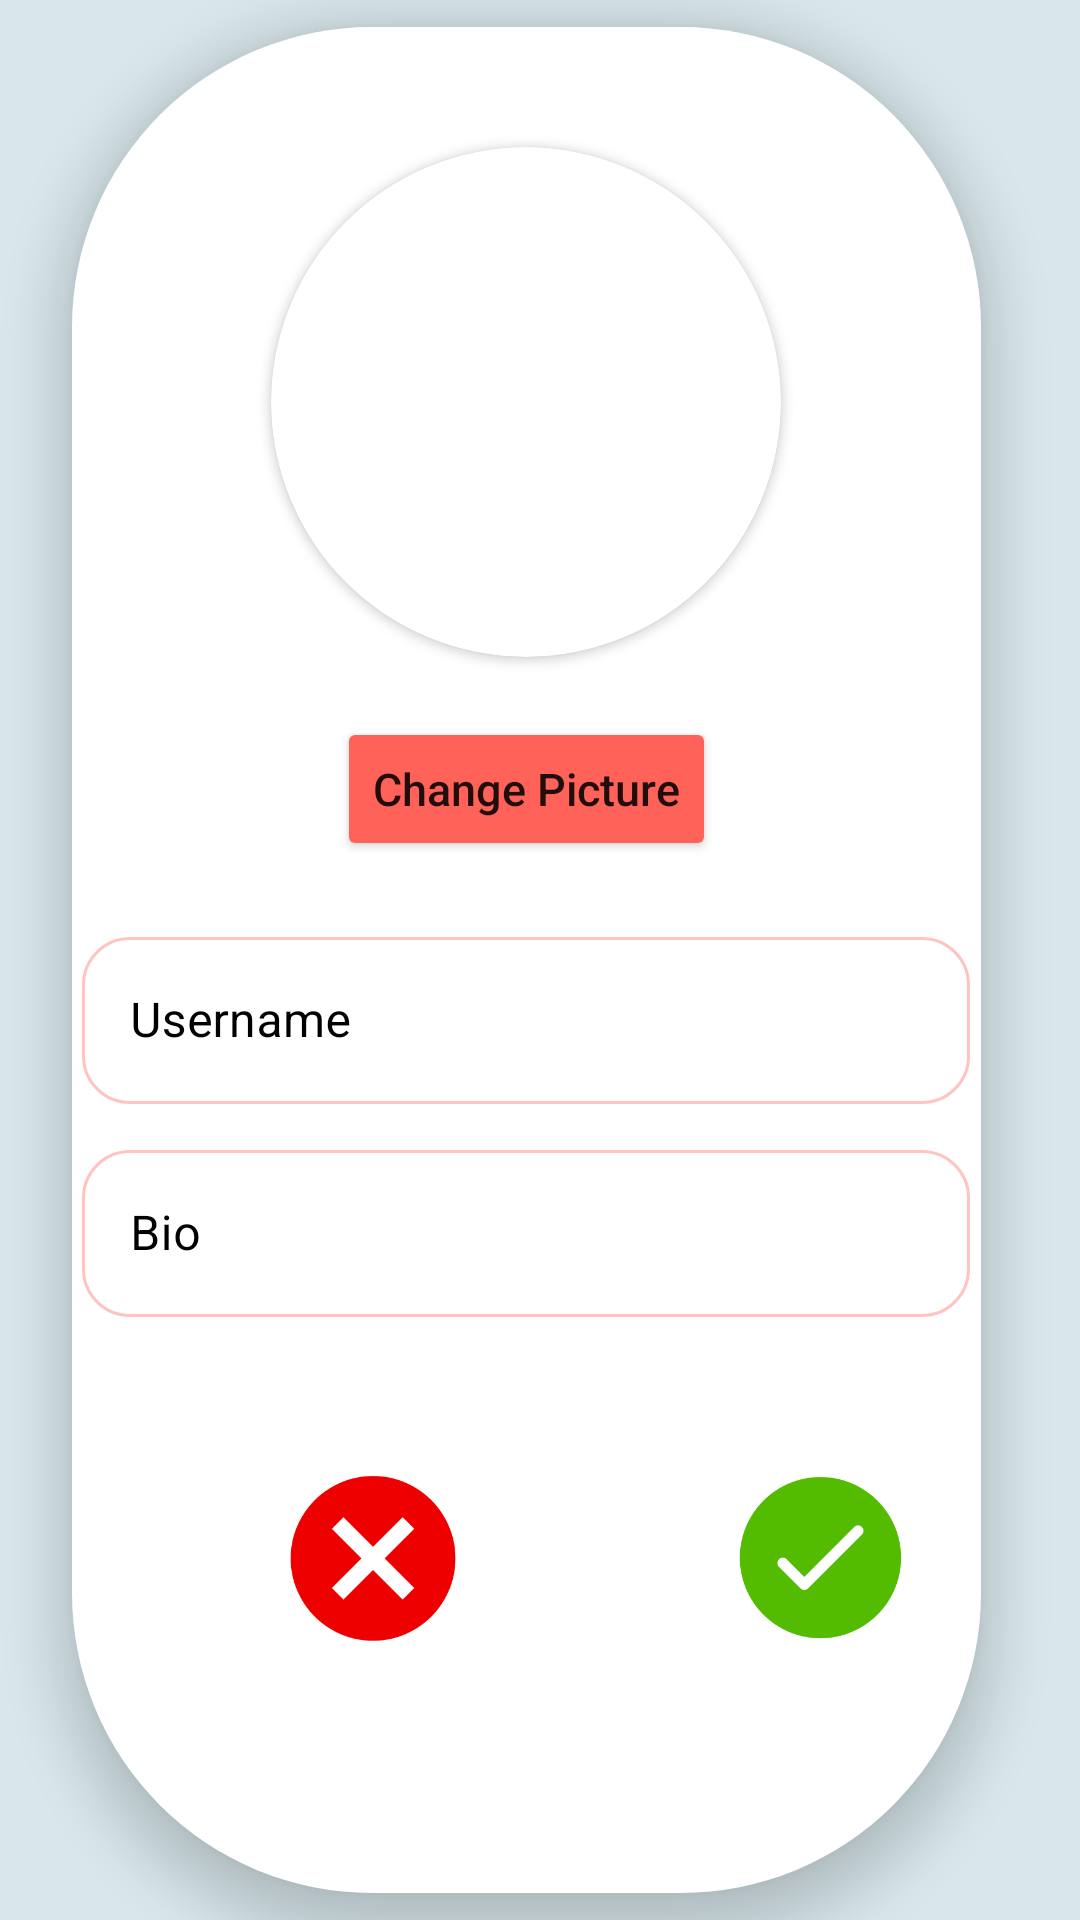

Where to tap for icons on this 1080w x 1920h app screen, as [x,y]:
correct: [820,1558]
